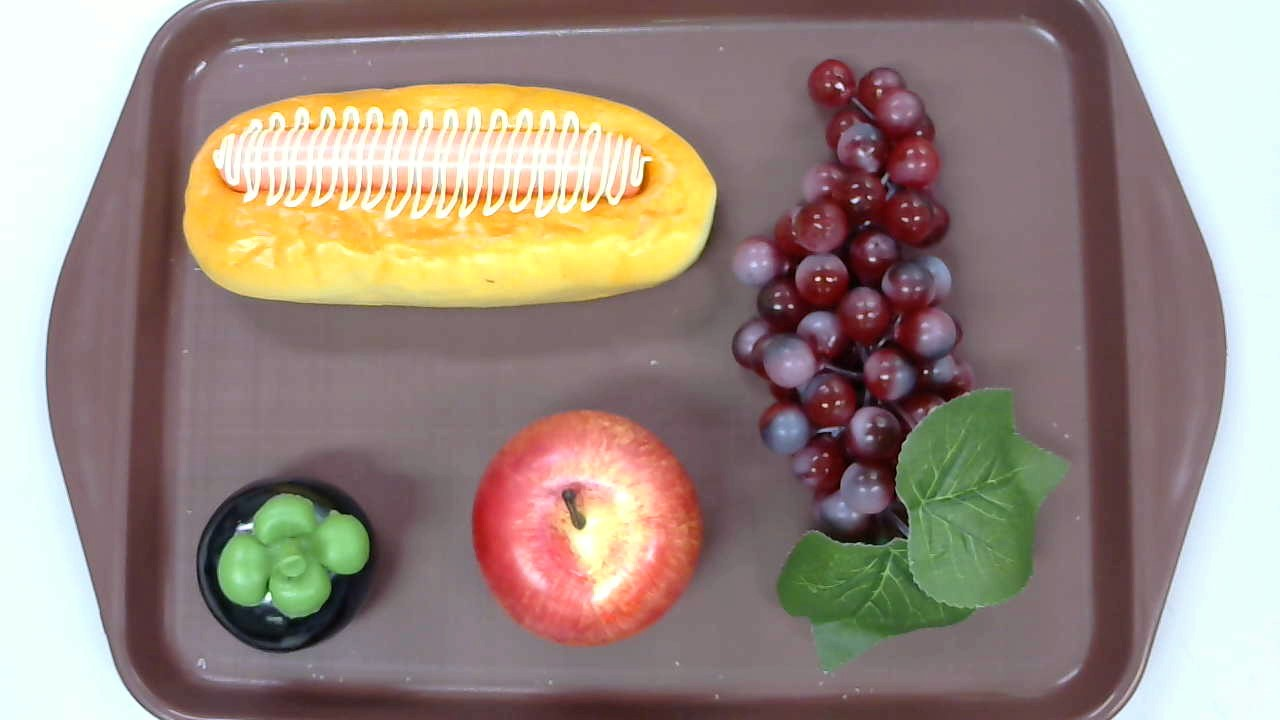grape: (731, 59, 1072, 676)
hot dog: (182, 82, 718, 309)
mangosteen: (196, 474, 379, 653)
red apple: (472, 410, 706, 646)
